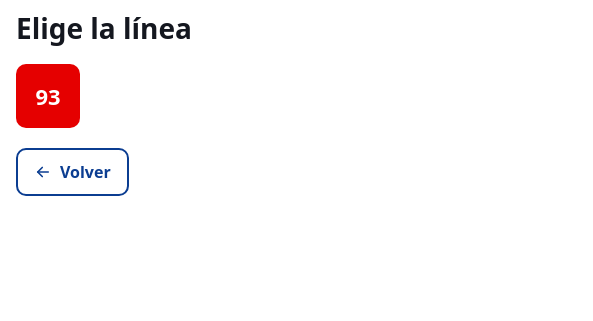
Test: ServicePicker › [driver_ui.AC-02] lists hour, first stop and destination; taken departures are disabled with "Ya en servicio"
Click the button named "Línea 93". click: x=48, y=96
box: [16,64,80,128]
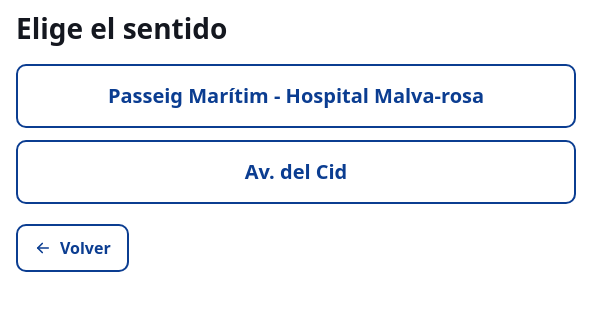
Click the button "Passeig Marítim - Hospital Malva-rosa". click: x=296, y=96
box: [16,64,576,128]
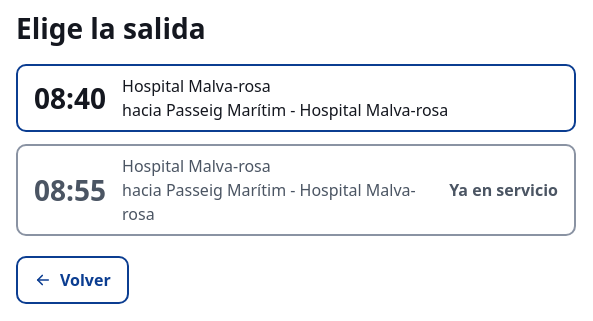
Now the button "08:40" shows "Hospital Malva-rosa", box [16,64,576,132]
Now the button "08:40" shows "Passeig Marítim - Hospital Malva-rosa", box [16,64,576,132]
Now the button "08:40" is enabled, box [16,64,576,132]
